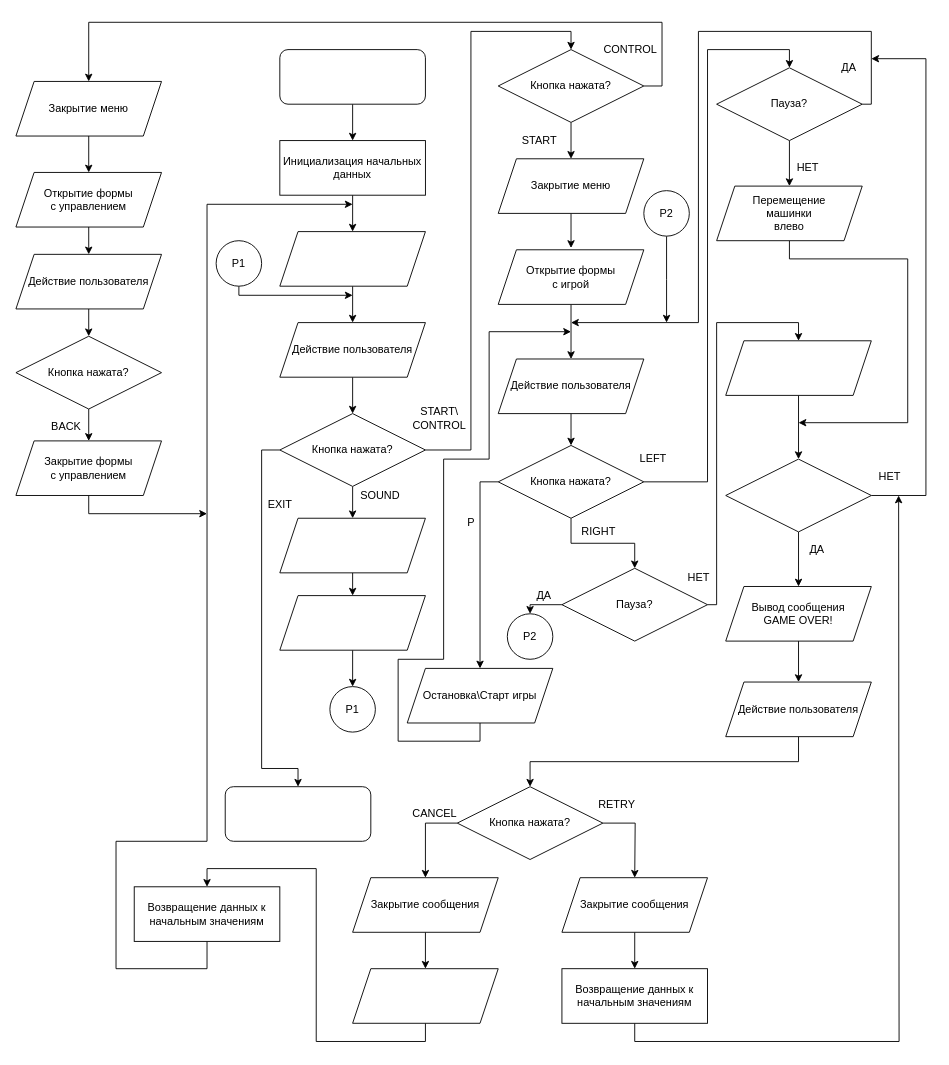
Image size: 949x1065. Some labels were removed from this diagram. The centre of each missing label's shape, as x and y in pixels:
"ВКЛ\ВЫКЛ звук" belongs at pixel 352 622.
"Вывод главного меню" belongs at pixel 352 258.
"Закрытие формы с игрой" belongs at pixel 425 995.
"Изменение иконки звука" belongs at pixel 352 545.
"Конец" belongs at pixel 297 813.
"Начало" belongs at pixel 352 76.
"Перемещение машинки вправо" belongs at pixel 798 367.
"Столкновение?" belongs at pixel 798 495.
